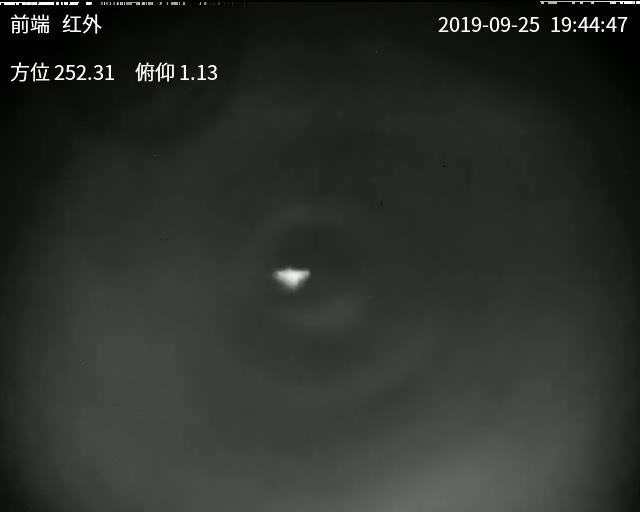uav: (267, 266, 311, 290)
